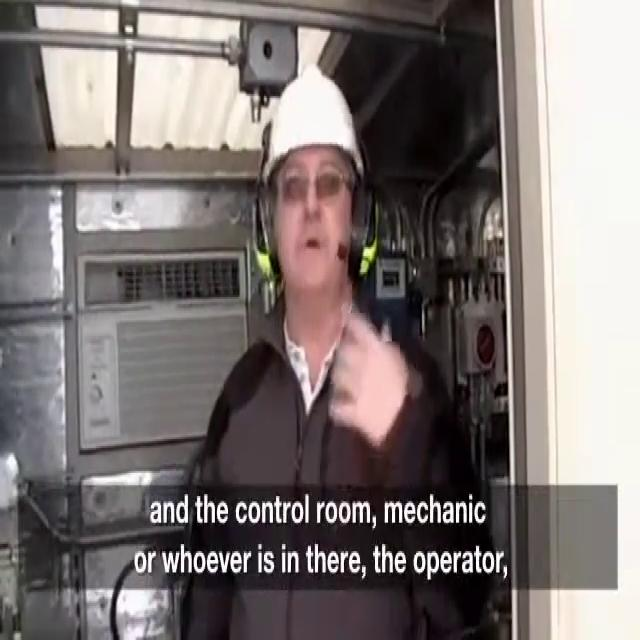earmuff: (348, 170, 383, 289), (249, 181, 285, 293)
glasses: (269, 153, 356, 211)
helmet: (258, 57, 369, 193)
